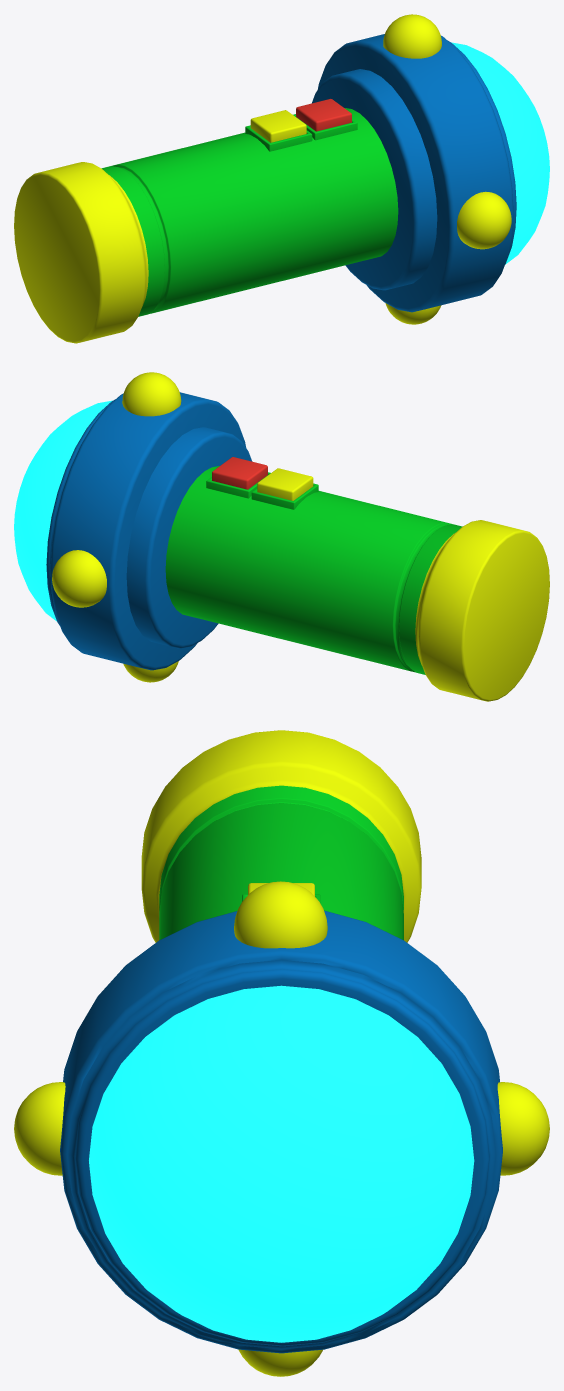
Rendered from smallLight.glb.
The picture shows the model from 3 angles, top to bottom: view 1: azimuth 30°, elevation 25°; view 2: azimuth 150°, elevation 25°; view 3: azimuth 270°, elevation 25°; orthographic projection. The views are drawn at different scales.
Parts seen in each view (by area): view 1: Sphere.001_GREEN_0, Sphere.001_BLUE 2_0, Sphere.001_YELLOW_0, Sphere.001_glass_0, Sphere.001_red_0; view 2: Sphere.001_GREEN_0, Sphere.001_BLUE 2_0, Sphere.001_YELLOW_0, Sphere.001_glass_0, Sphere.001_red_0; view 3: Sphere.001_glass_0, Sphere.001_BLUE 2_0, Sphere.001_YELLOW_0, Sphere.001_GREEN_0.
Part boxes in pixels (box(x1,y1,x2,y2)): Sphere.001_GREEN_0: box(101, 108, 398, 316); Sphere.001_BLUE 2_0: box(312, 34, 516, 312); Sphere.001_YELLOW_0: box(14, 14, 511, 343); Sphere.001_glass_0: box(451, 42, 549, 264); Sphere.001_red_0: box(296, 98, 351, 131); Sphere.001_GREEN_0: box(165, 466, 462, 674); Sphere.001_BLUE 2_0: box(46, 392, 252, 670); Sphere.001_YELLOW_0: box(52, 372, 549, 701); Sphere.001_glass_0: box(14, 400, 112, 621); Sphere.001_red_0: box(212, 457, 267, 489); Sphere.001_glass_0: box(89, 985, 474, 1342); Sphere.001_BLUE 2_0: box(60, 910, 502, 1353); Sphere.001_YELLOW_0: box(14, 730, 549, 1376); Sphere.001_GREEN_0: box(159, 785, 403, 940).
Size of the model in its own units: 0.3337 by 0.2054 by 0.2054.
